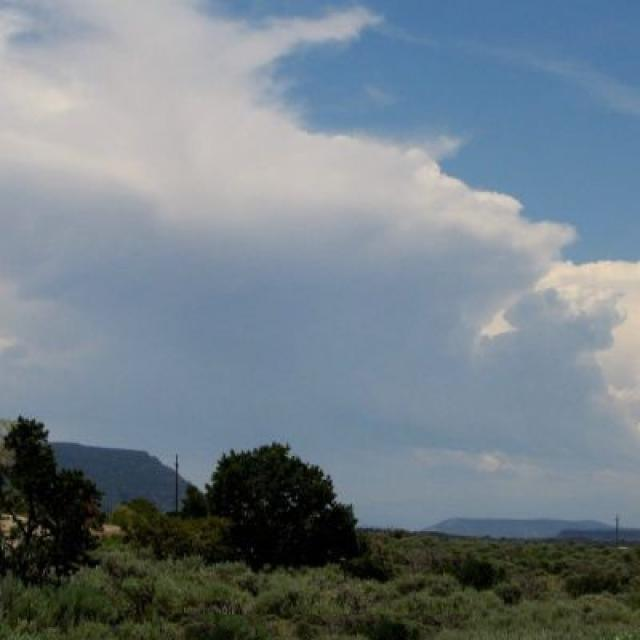Cs: (1, 1, 640, 363)
